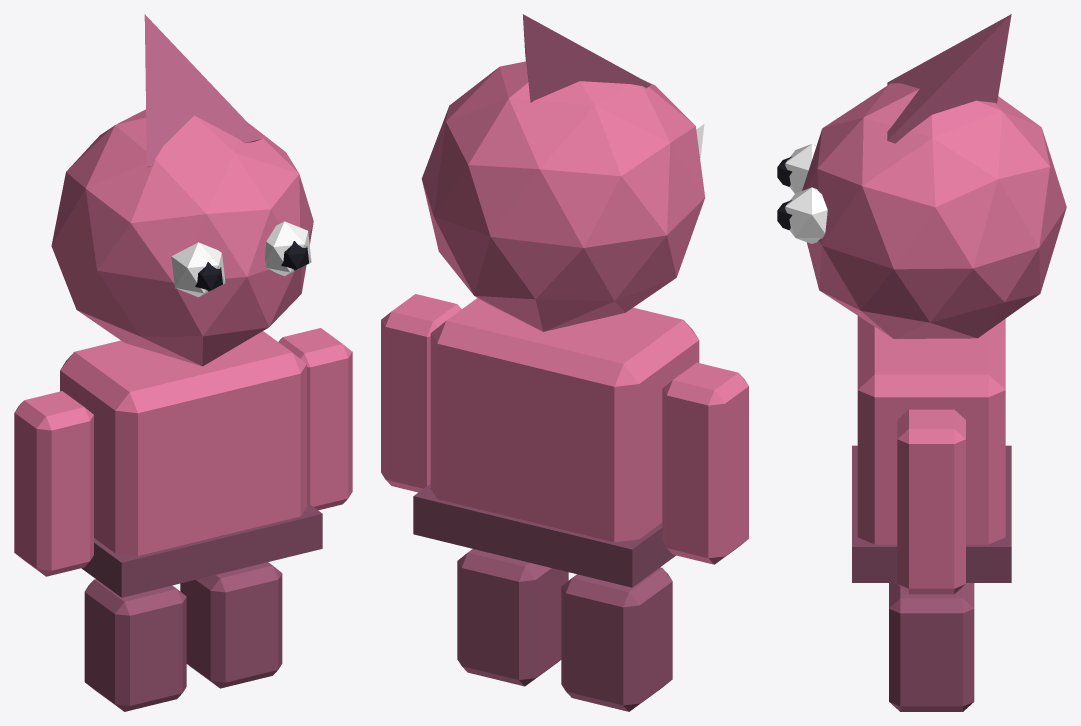
Rendered from OctofolkBrute.fbx.
3 views of the same model, side by side, from view 1: azimuth 30°, elevation 25°; view 2: azimuth 150°, elevation 25°; view 3: azimuth 270°, elevation 25° (orthographic). The views are drawn at different scales.
Parts seen in each view (by area): view 1: OctofolkBrute; view 2: OctofolkBrute; view 3: OctofolkBrute.
Part boxes in pixels (x1=…): OctofolkBrute: x1=14, y1=14, x2=352, y2=711; OctofolkBrute: x1=381, y1=14, x2=748, y2=711; OctofolkBrute: x1=777, y1=14, x2=1066, y2=711.
Size of the model in its own units: 4.62 by 8.95 by 3.56.
1 material, 1 textured.
